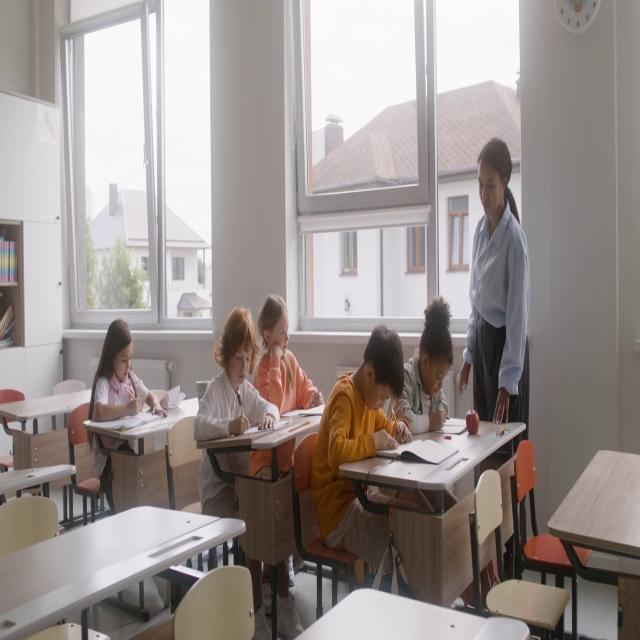listening: (246, 286, 328, 425)
writing: (192, 307, 288, 640), (310, 327, 419, 604), (90, 317, 169, 449), (399, 296, 457, 436)
